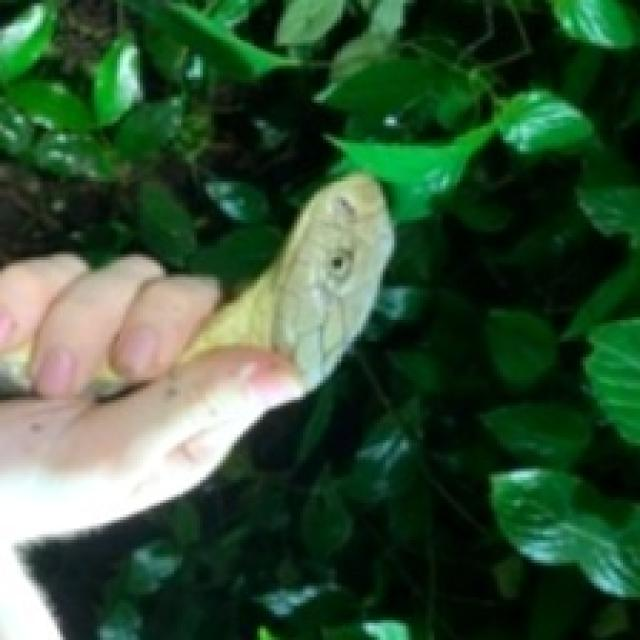king cobra: (0, 174, 391, 637)
